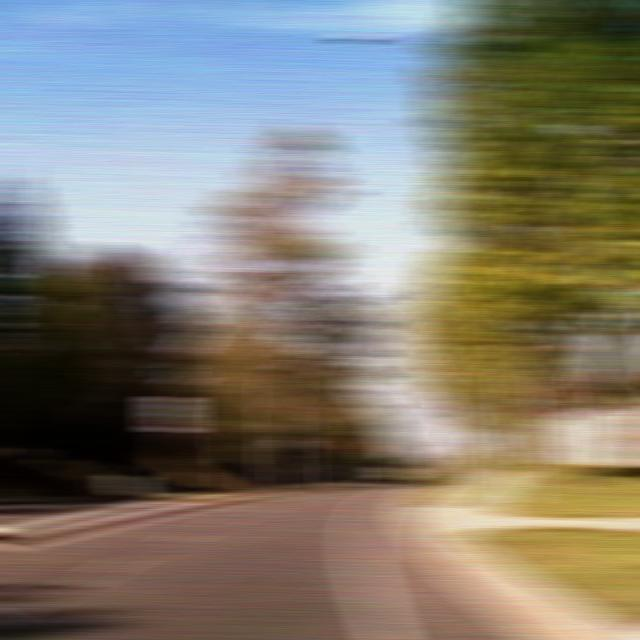speedLimit40: (150, 395, 190, 432)
